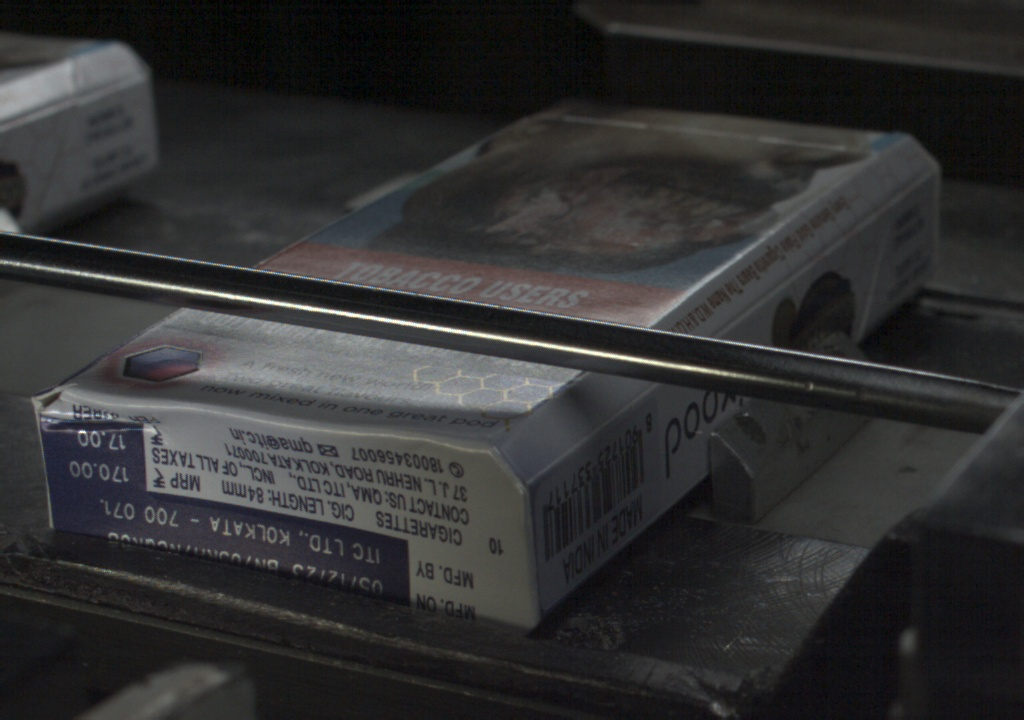g_label: (48, 491, 409, 603)
g_lmiter: (795, 201, 885, 267), (713, 268, 794, 332), (534, 432, 598, 482), (598, 388, 658, 432)
g_miter: (895, 160, 943, 201)
ng_bottom: (29, 417, 524, 628)
price: (45, 421, 144, 490)
